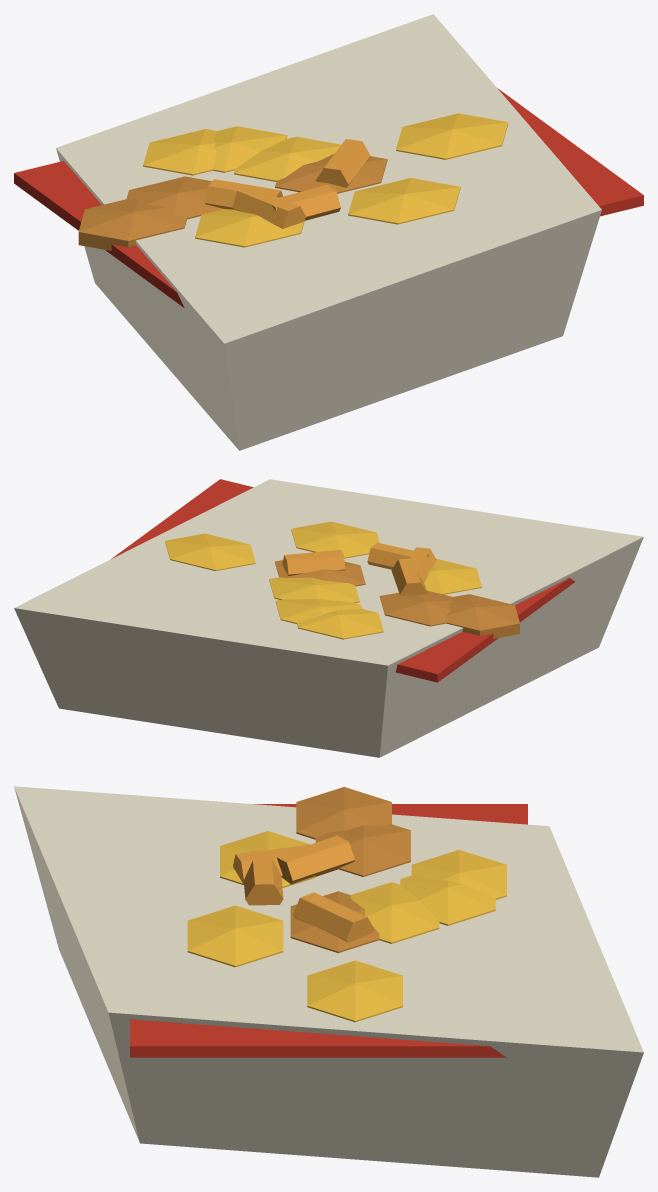
File: m-pasta.glb
The picture shows the model from 3 angles, top to bottom: view 1: azimuth 30°, elevation 25°; view 2: azimuth 150°, elevation 25°; view 3: azimuth 270°, elevation 25°; orthographic projection. The views are drawn at different scales.
Parts seen in each view (by area): view 1: m_pasta; view 2: m_pasta; view 3: m_pasta.
Part boxes in pixels (x1=…): m_pasta: x1=14, y1=14, x2=643, y2=450; m_pasta: x1=14, y1=479, x2=643, y2=757; m_pasta: x1=14, y1=786, x2=643, y2=1177.
Bounding box in the file's own units: 0.198 × 0.0572 × 0.198.
